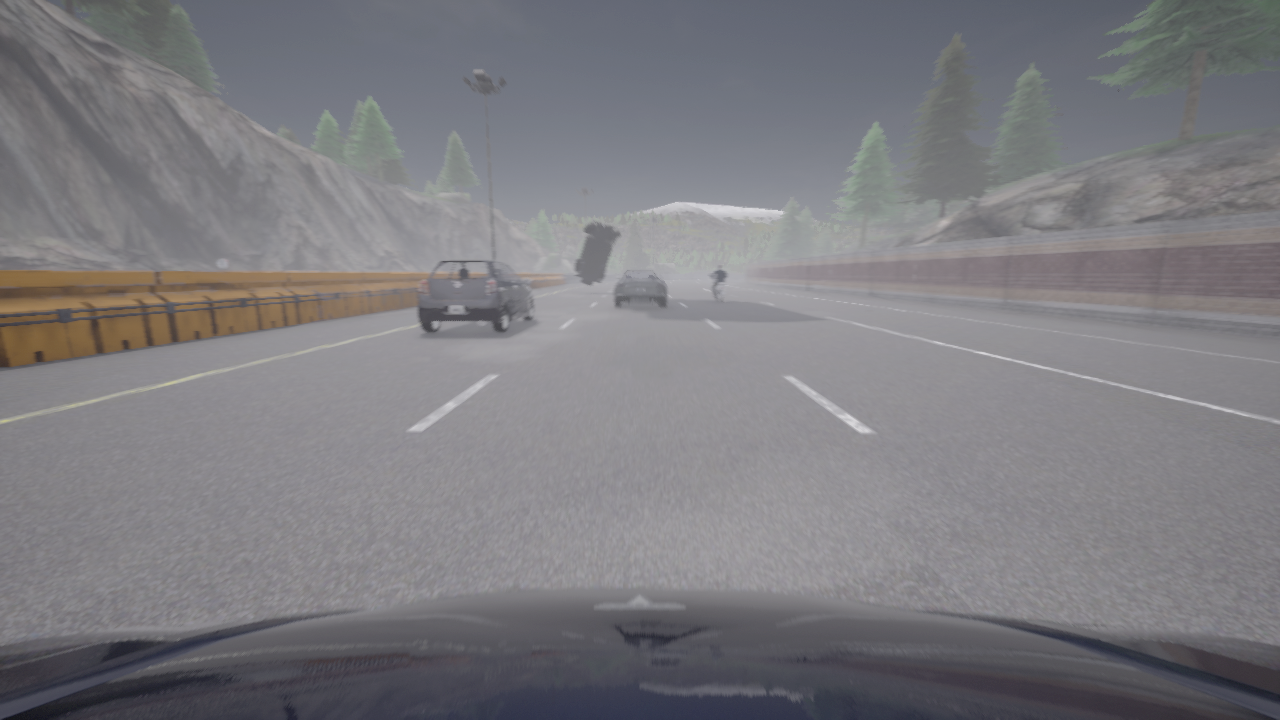cyclist: (0, 588, 1279, 719), (417, 259, 534, 332), (574, 220, 621, 286), (613, 269, 667, 306), (709, 273, 728, 302)
